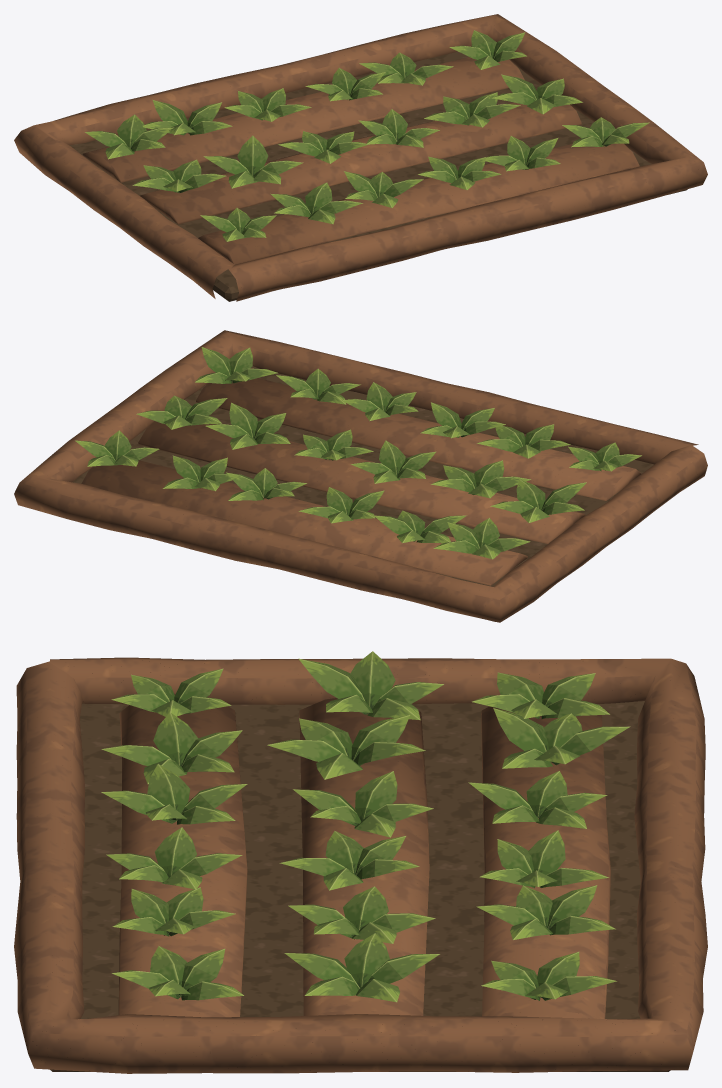
The model's file is vegetable_garden_bed.glb.
3 views of the same model, one above another, from view 1: azimuth 30°, elevation 25°; view 2: azimuth 150°, elevation 25°; view 3: azimuth 270°, elevation 25° (orthographic). The views are drawn at different scales.
Parts seen in each view (by area): view 1: vegetable_garden_bed_soil_bed, vegetable_garden_bed_furrows, vegetable_garden_bed_vegetable_clumps; view 2: vegetable_garden_bed_soil_bed, vegetable_garden_bed_furrows, vegetable_garden_bed_vegetable_clumps; view 3: vegetable_garden_bed_soil_bed, vegetable_garden_bed_vegetable_clumps, vegetable_garden_bed_furrows.
Boxes of the visible parts, x1,y1,x2,y2 form: vegetable_garden_bed_soil_bed: [14, 14, 707, 301]; vegetable_garden_bed_furrows: [82, 57, 639, 264]; vegetable_garden_bed_vegetable_clumps: [85, 30, 649, 241]; vegetable_garden_bed_soil_bed: [14, 330, 707, 622]; vegetable_garden_bed_furrows: [81, 378, 641, 585]; vegetable_garden_bed_vegetable_clumps: [75, 347, 641, 559]; vegetable_garden_bed_soil_bed: [14, 657, 707, 1073]; vegetable_garden_bed_vegetable_clumps: [101, 651, 630, 1002]; vegetable_garden_bed_furrows: [118, 693, 610, 1018].
Size of what is drawn, in the model's own units: 3.64 by 0.3343 by 2.75.
Materials: 3 (3 with a texture image).
